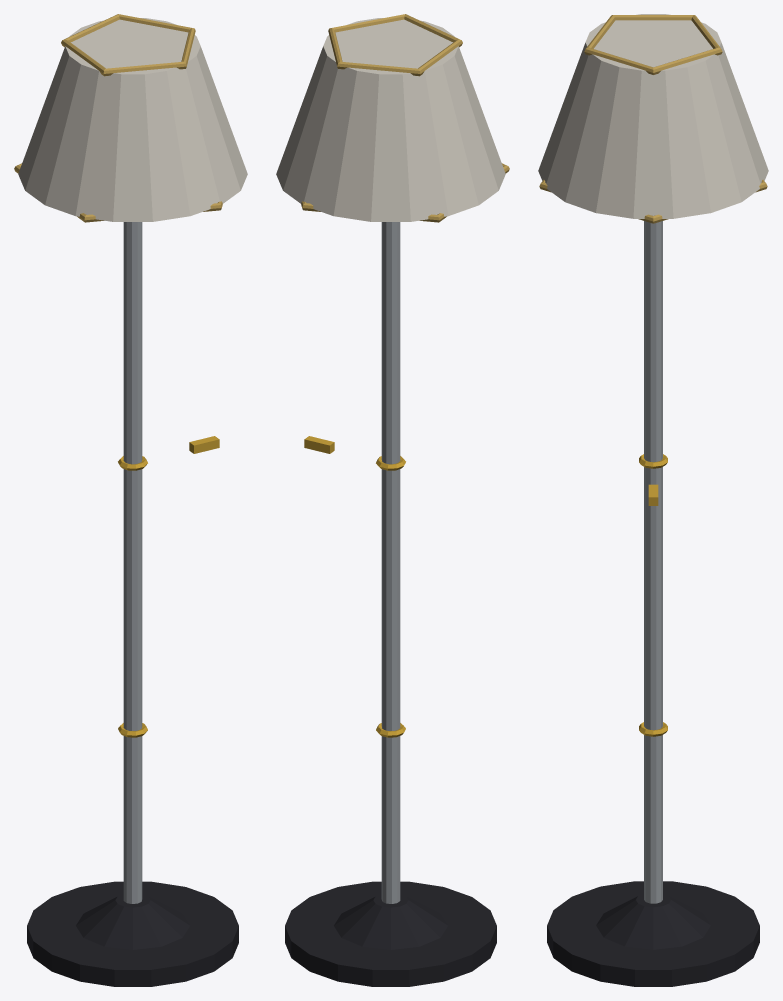
Rendered from lamp_floor.glb.
The picture shows the model from 3 angles, left to right: view 1: azimuth 30°, elevation 25°; view 2: azimuth 150°, elevation 25°; view 3: azimuth 270°, elevation 25°; orthographic projection.
Visible parts, largest first — view 1: lamp_floor; view 2: lamp_floor; view 3: lamp_floor.
Part boxes in pixels (x1=…): lamp_floor: x1=14, y1=14, x2=247, y2=986; lamp_floor: x1=276, y1=14, x2=509, y2=986; lamp_floor: x1=538, y1=14, x2=768, y2=986.
Size of the model in its own units: 0.395 by 1.69 by 0.39.
